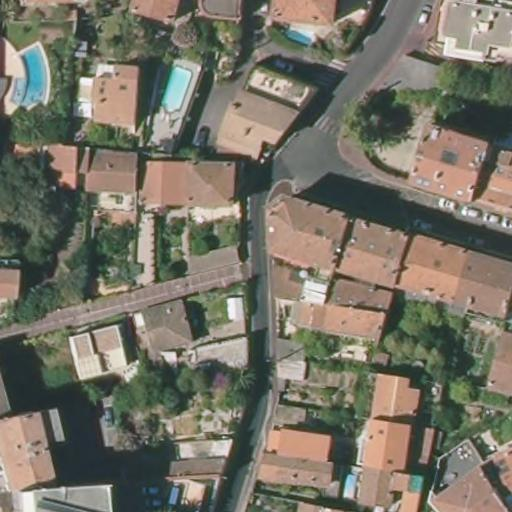pool: (13, 43, 53, 114), (161, 66, 192, 116), (280, 25, 320, 47)
